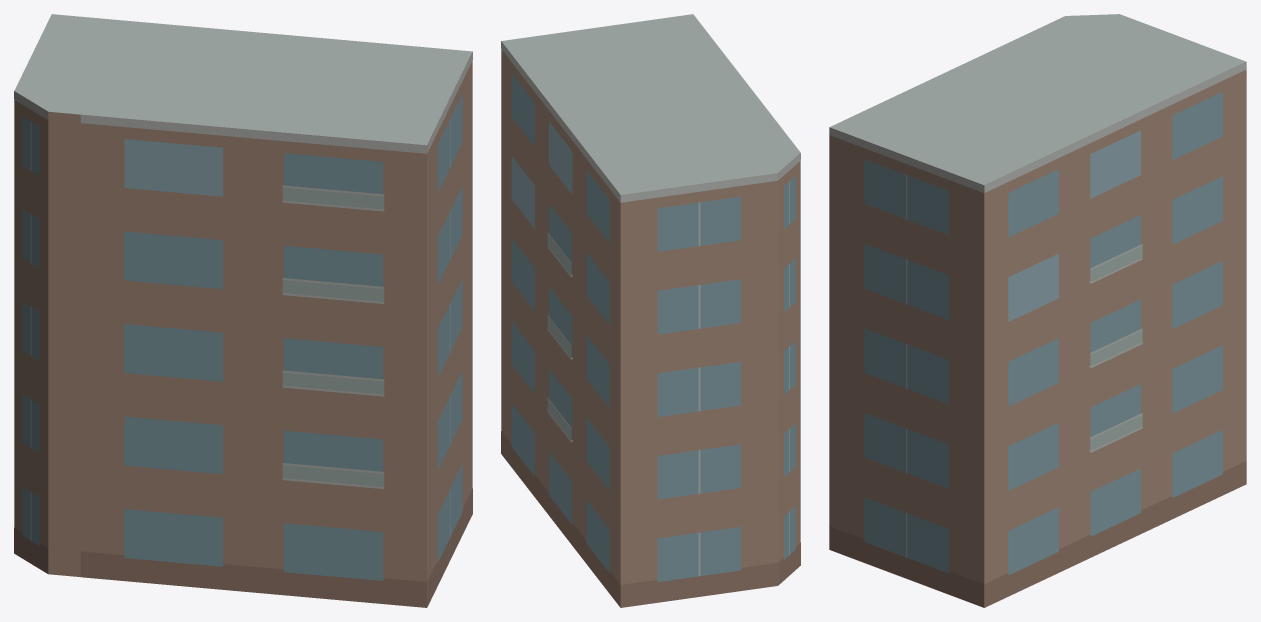
File: survey-upis-32535939.glb
The picture shows the model from 3 angles, left to right: view 1: azimuth 30°, elevation 25°; view 2: azimuth 150°, elevation 25°; view 3: azimuth 270°, elevation 25°; orthographic projection. The views are drawn at different scales.
Parts seen in each view (by area): view 1: survey-upis-32535939.tmp; view 2: survey-upis-32535939.tmp; view 3: survey-upis-32535939.tmp.
Part boxes in pixels (bbox=[...]): survey-upis-32535939.tmp: bbox=[14, 14, 472, 607]; survey-upis-32535939.tmp: bbox=[501, 14, 800, 607]; survey-upis-32535939.tmp: bbox=[829, 14, 1246, 607].
Bounding box in the file's own units: 11.49 × 13.2 × 11.82.
